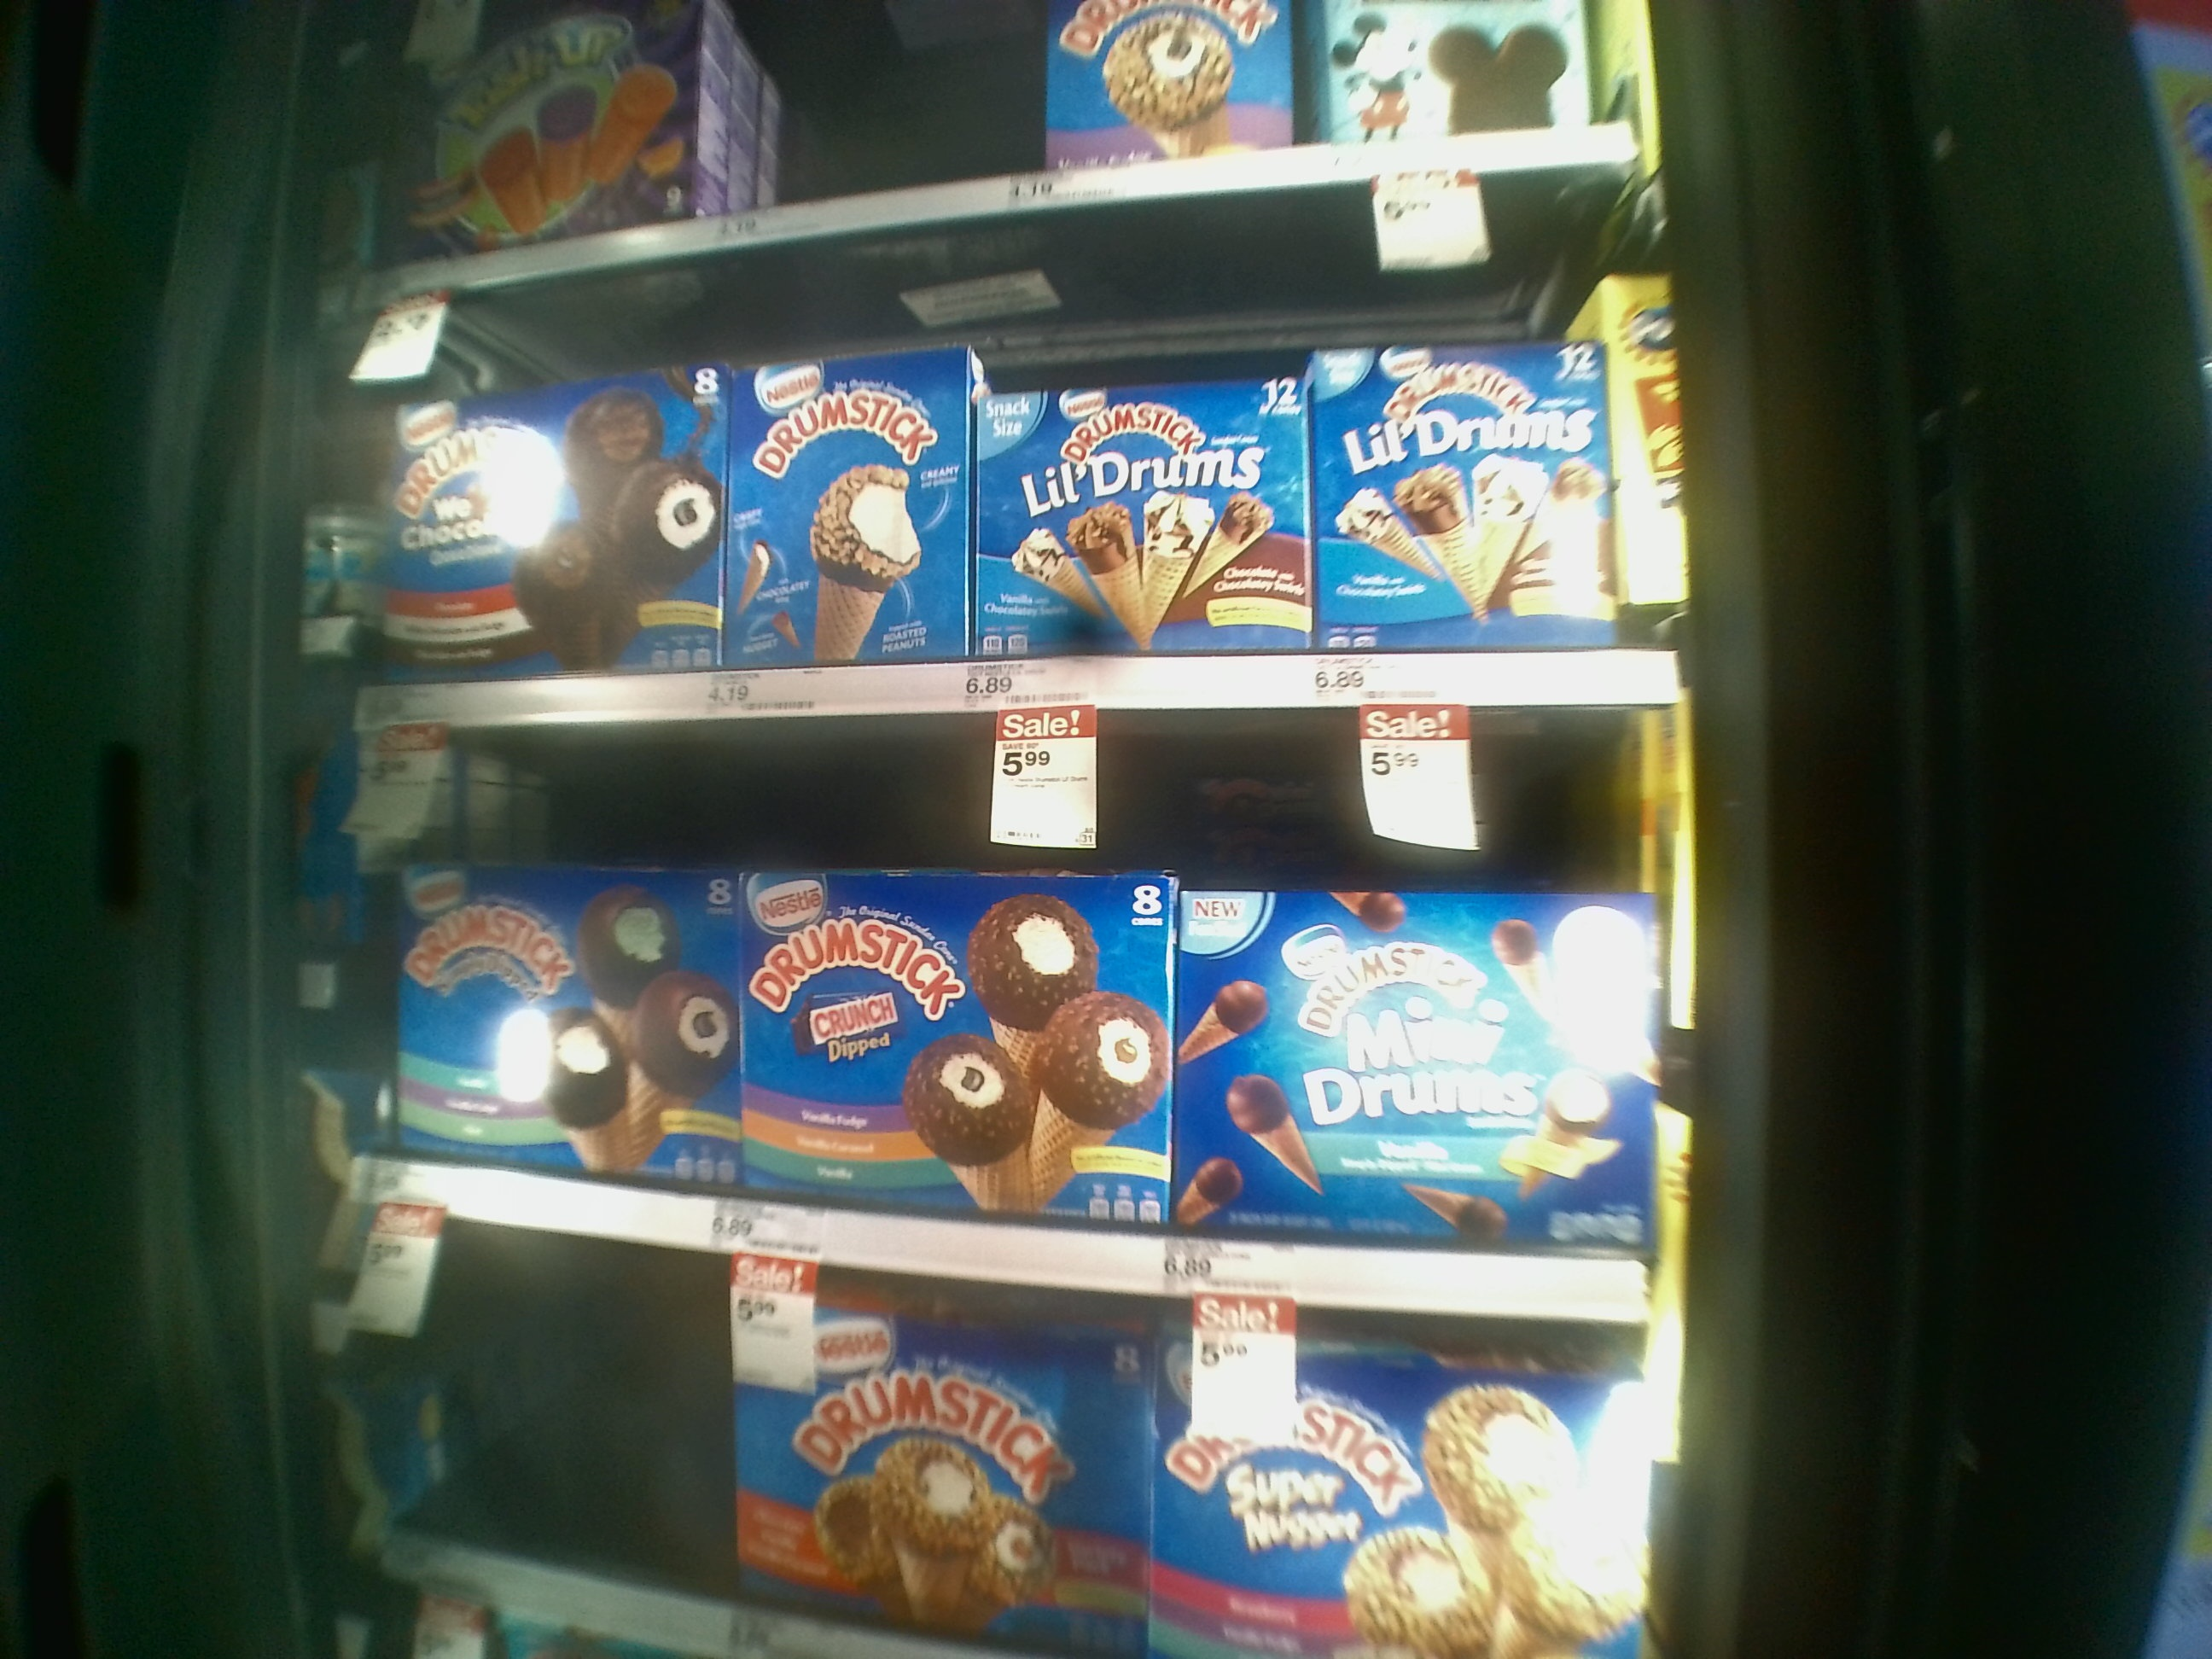shelf: (310, 706, 1689, 1321), (310, 211, 1689, 723)
